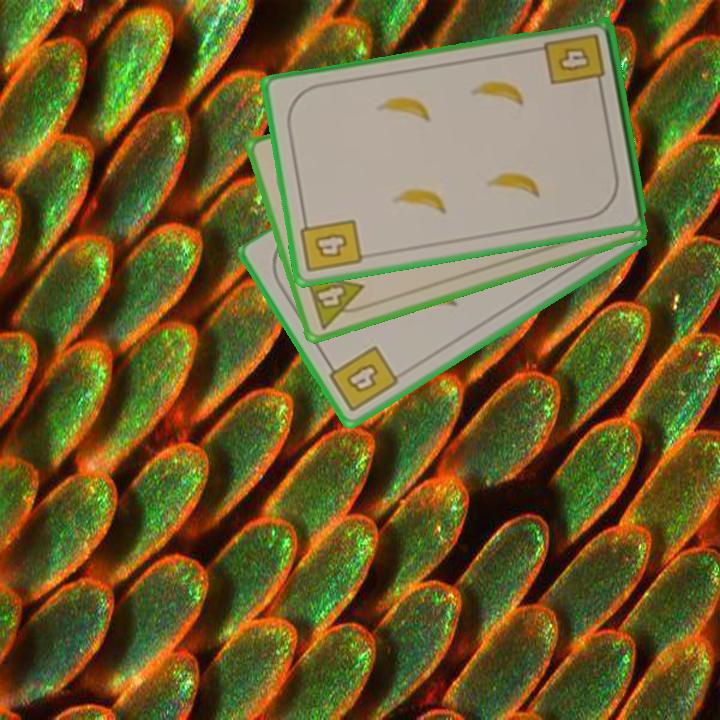4b: (322, 342, 402, 416), (297, 212, 365, 276), (541, 30, 609, 93)
4p: (301, 268, 373, 332)
